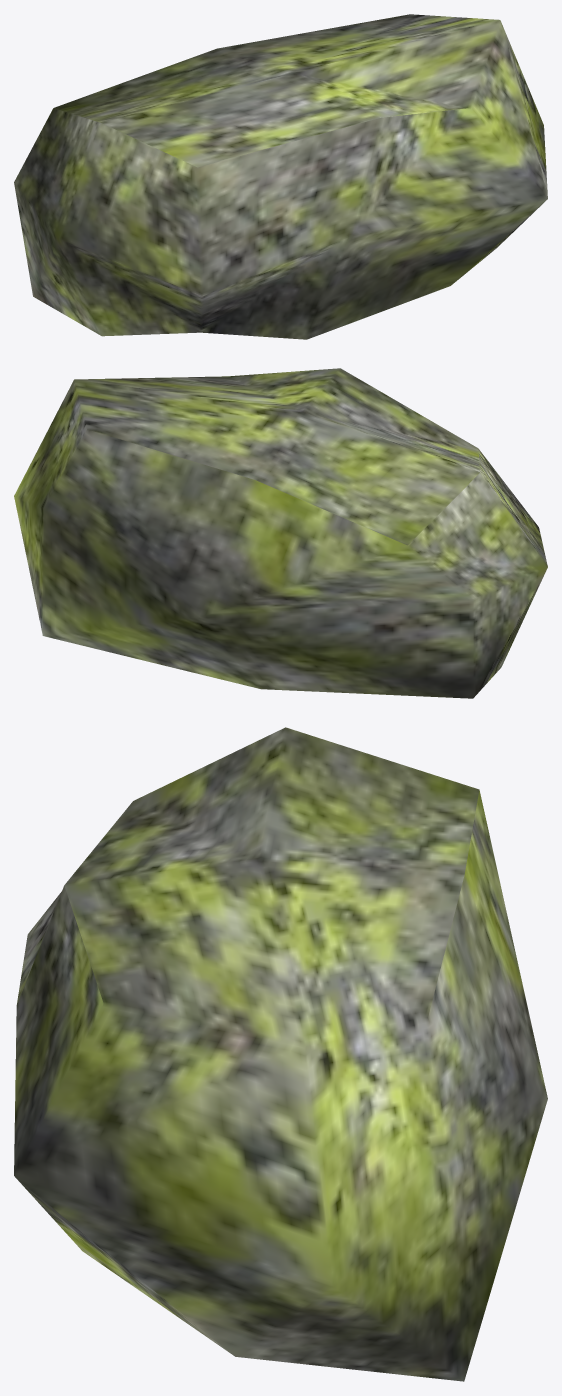
The model's file is rock.glb.
3 renders of one model, top to bottom at view 1: azimuth 30°, elevation 25°; view 2: azimuth 150°, elevation 25°; view 3: azimuth 270°, elevation 25°, orthographic. The views are drawn at different scales.
Visible parts, largest first — view 1: Cube; view 2: Cube; view 3: Cube.
Part boxes in pixels (x1=…): Cube: x1=14, y1=14, x2=547, y2=339; Cube: x1=14, y1=368, x2=547, y2=698; Cube: x1=14, y1=727, x2=547, y2=1381.
Size of the model in its own units: 4.24 by 1.81 by 2.39.
1 material, 1 textured.
